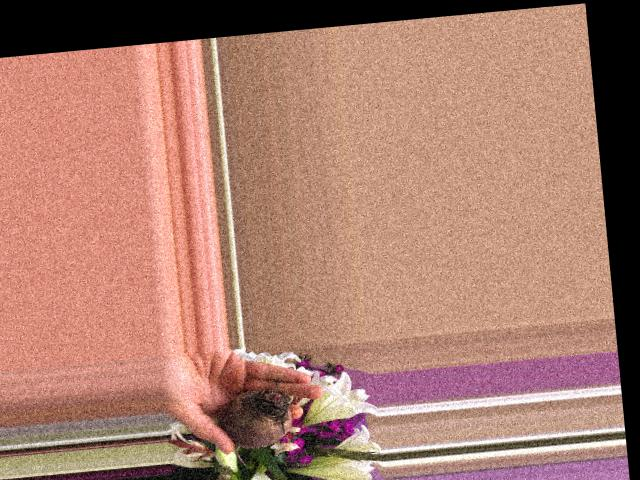beet: (215, 386, 296, 469)
